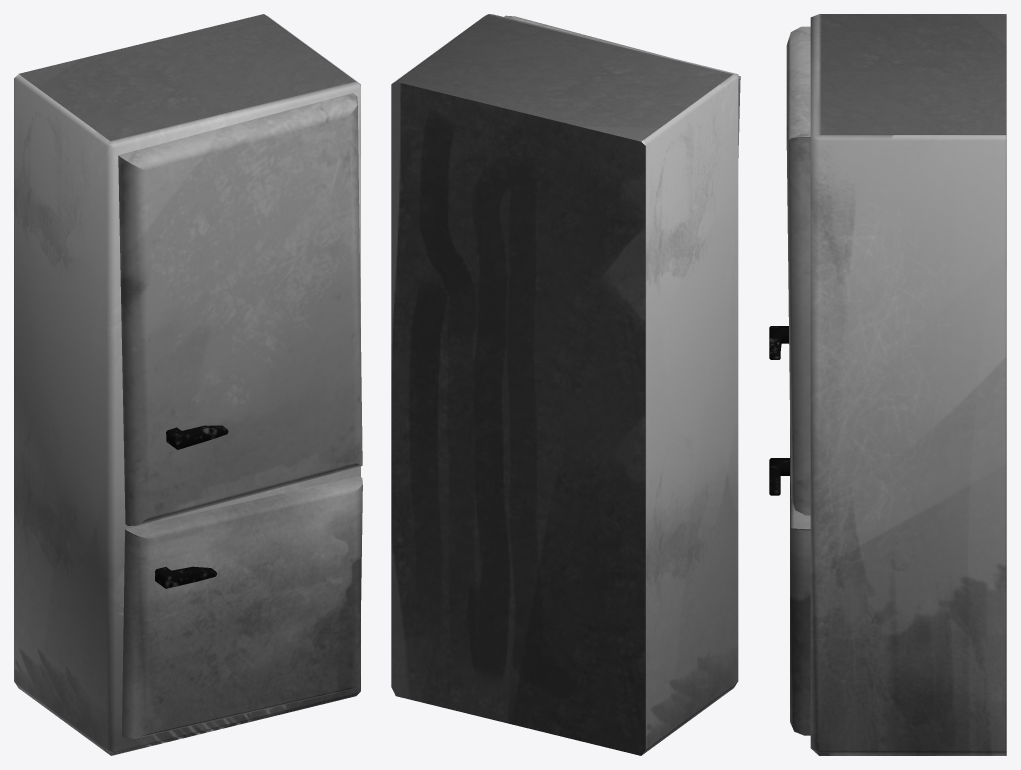
Rendered from Fridge_Asset.fbx.
3 renders of one model, left to right at view 1: azimuth 30°, elevation 25°; view 2: azimuth 150°, elevation 25°; view 3: azimuth 270°, elevation 25°, orthographic.
Visible parts, largest first — view 1: Fridge; view 2: Fridge; view 3: Fridge.
Boxes of the visible parts, bbox=[...] form: Fridge: bbox=[14, 14, 362, 755]; Fridge: bbox=[391, 14, 740, 755]; Fridge: bbox=[769, 14, 1006, 755].
Bounding box in the file's own units: 76.56 × 61.21 × 177.
Materials: 1 (1 with a texture image).
